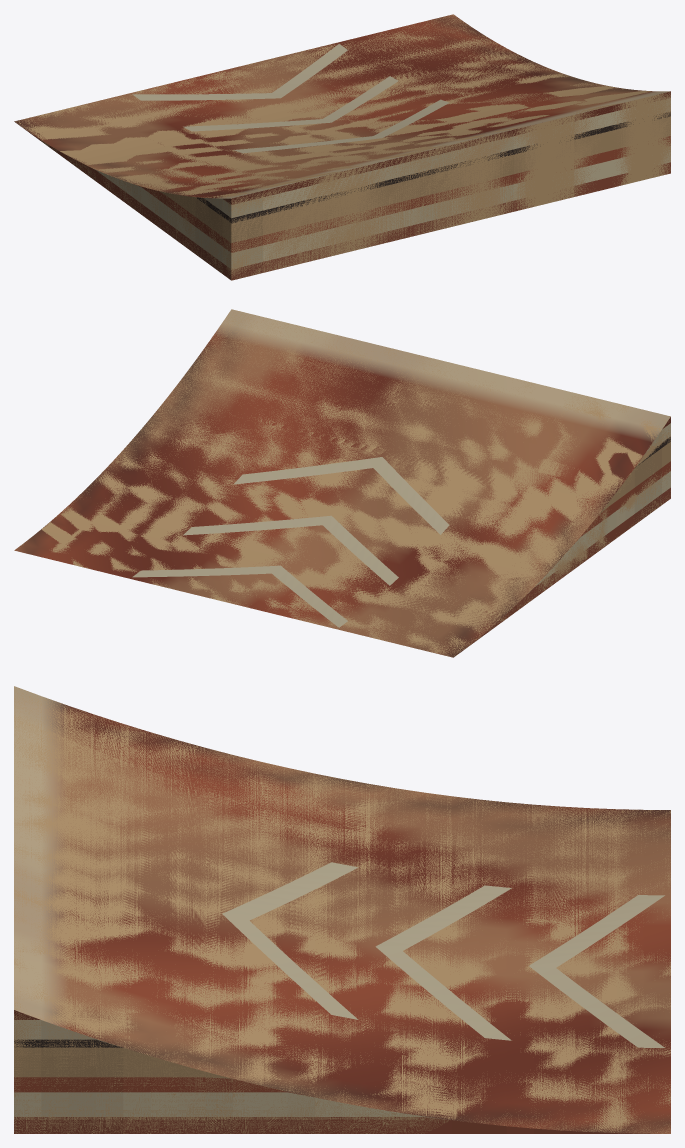
File: mesa_lip_kicker.glb
3 renders of one model, top to bottom at view 1: azimuth 30°, elevation 25°; view 2: azimuth 150°, elevation 25°; view 3: azimuth 270°, elevation 25°, orthographic. The views are drawn at different scales.
Visible parts, largest first — view 1: mesa_lip_kicker, mesa_lip_kicker-col; view 2: mesa_lip_kicker, mesa_lip_kicker-col; view 3: mesa_lip_kicker, mesa_lip_kicker-col.
Part boxes in pixels (x1,y1,x2,y2): mesa_lip_kicker: [14, 14, 670, 280]; mesa_lip_kicker-col: [15, 15, 670, 280]; mesa_lip_kicker: [14, 309, 670, 657]; mesa_lip_kicker-col: [21, 309, 670, 657]; mesa_lip_kicker: [14, 686, 670, 1133]; mesa_lip_kicker-col: [14, 687, 670, 1133].
Bounding box in the file's own units: 14 × 2.5 × 12.
